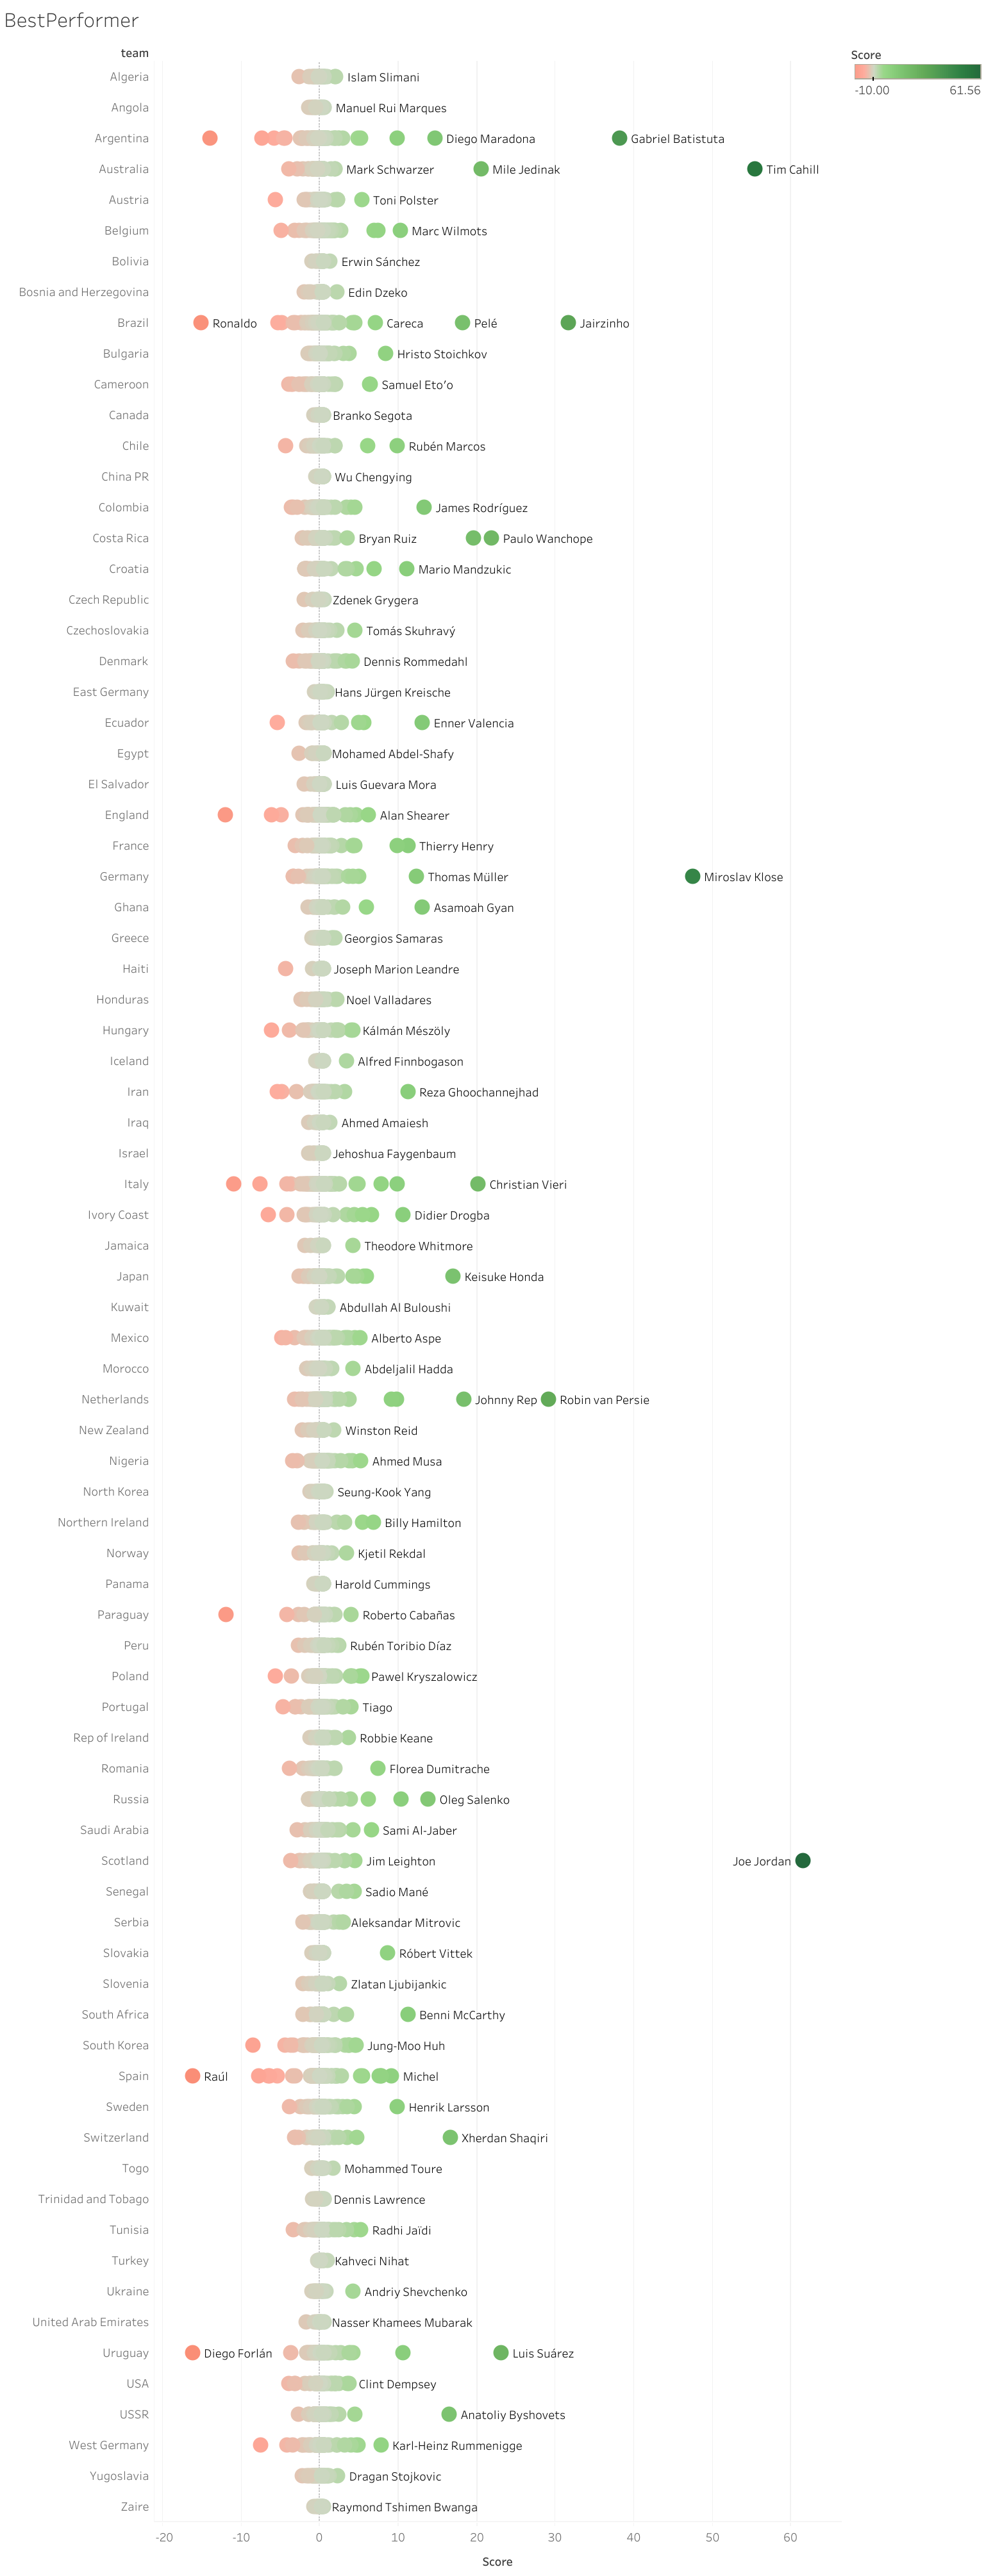

Layout of this report page (visuals, bound fields, positions):
{"tool":"tableau","page":{"name":"Dashboard 1","canvas":[650,860],"ordinal":0},"visuals":[{"type":"worksheet","title":"Sheet 1","mark":"Automatic","box":[8,8.4,444,421.6]},{"type":"filter","title":"Sheet 2","param":"[federated.1qywn7f1b5xpl81fkrifj1w0izer].[yr:Order Date:ok]","box":[452,8.4,190,108.2]},{"type":"worksheet","title":"Sheet 2","mark":"Automatic","rows":["Profit"],"cols":["Sales"],"box":[8,430,444,421.6]}]}

Visuals, with their boxes on the page's 650x860 design canvas (x1, y1, x2, y2). These are canvas units, not pixel positions in the 986x2576 screenshot, which may show the page scaled, cropped or inside an application window:
"Sheet 1" worksheet: Rect(8, 8, 452, 430)
"Sheet 2" filter: Rect(452, 8, 642, 117)
"Sheet 2" worksheet: Rect(8, 430, 452, 852)
